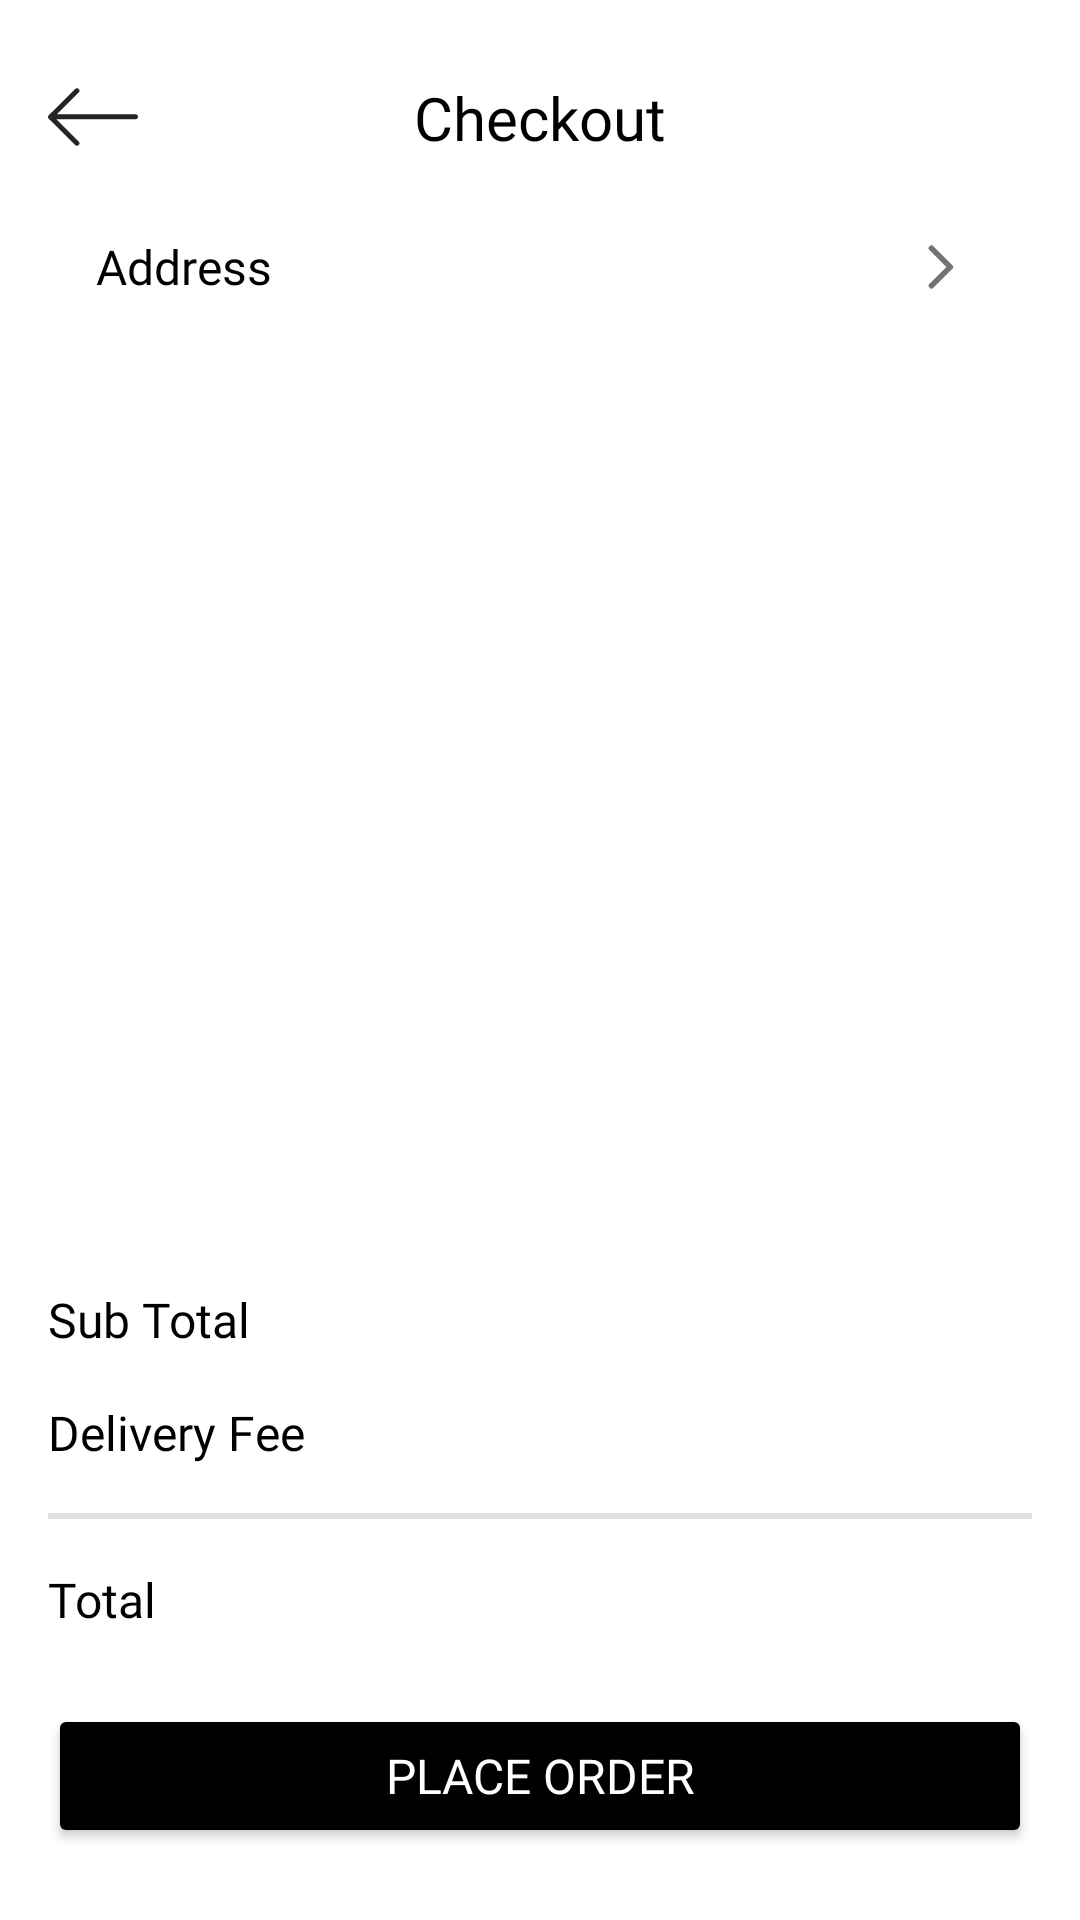

Icons on this 1080 × 1920 Android screen, each with its box as (x1, y1, x2, y2):
left arrow: (48, 88, 138, 146)
right arrow: (928, 245, 953, 289)
